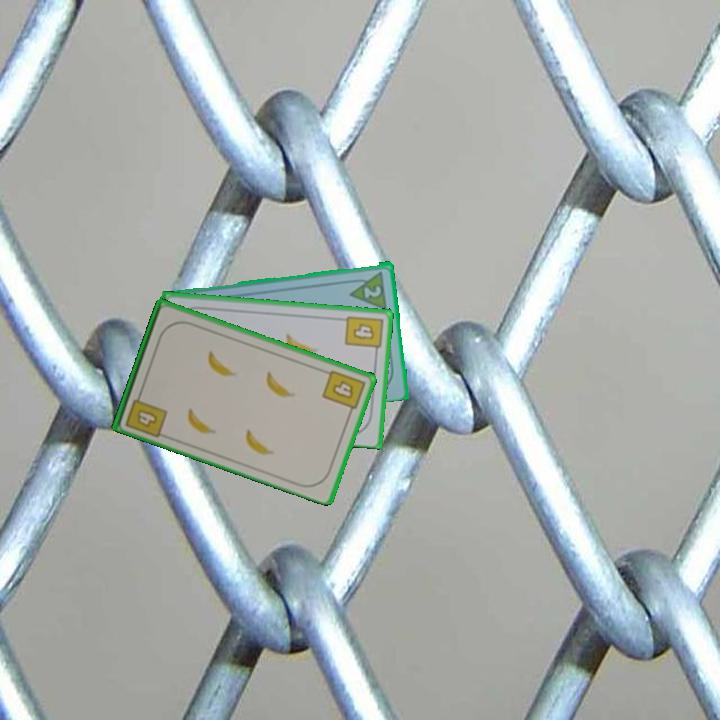2p: (345, 267, 390, 311)
4b: (318, 366, 368, 418), (122, 387, 170, 440), (341, 312, 385, 357)
